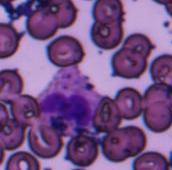N: (36, 67, 100, 130)
